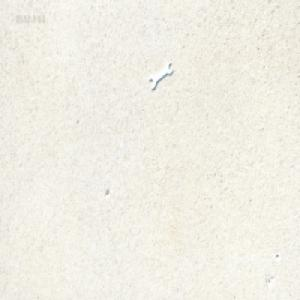Wrench: (148, 61, 172, 91)
